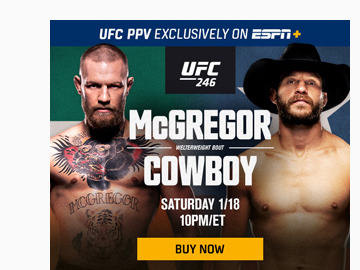fake_button: (127, 229, 280, 270)
